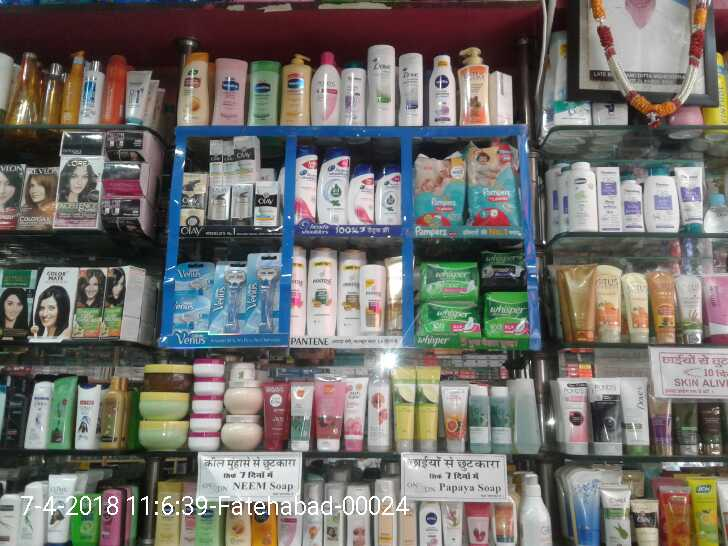venus: (247, 253, 280, 331), (217, 259, 246, 333), (170, 293, 211, 334), (175, 260, 217, 293)
